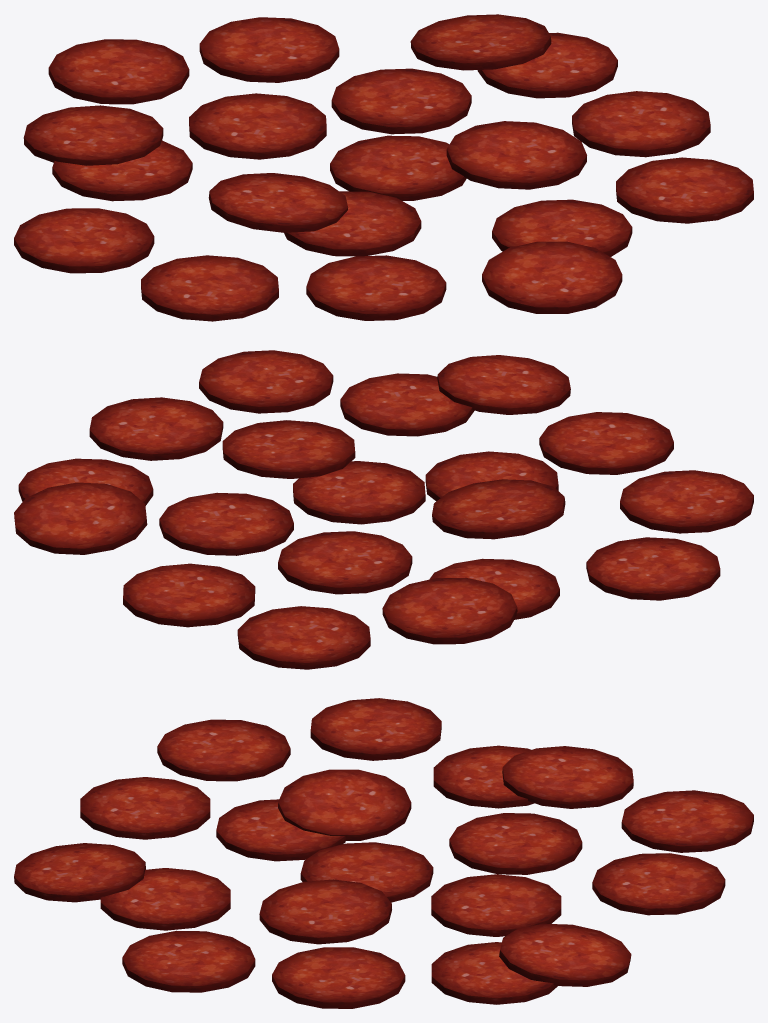
The model's file is Toppings_Pepperoni.fbx.
3 renders of one model, top to bottom at view 1: azimuth 30°, elevation 25°; view 2: azimuth 150°, elevation 25°; view 3: azimuth 270°, elevation 25°, orthographic. The views are drawn at different scales.
Visible parts, largest first — view 1: Toppings_Pepperoni; view 2: Toppings_Pepperoni; view 3: Toppings_Pepperoni.
Boxes of the visible parts, left/top/right/bottom form: Toppings_Pepperoni: left=14, top=14, right=753, bottom=321; Toppings_Pepperoni: left=14, top=350, right=753, bottom=669; Toppings_Pepperoni: left=14, top=698, right=753, bottom=1008.
Size of the model in its own units: 130 by 4.17 by 133.
